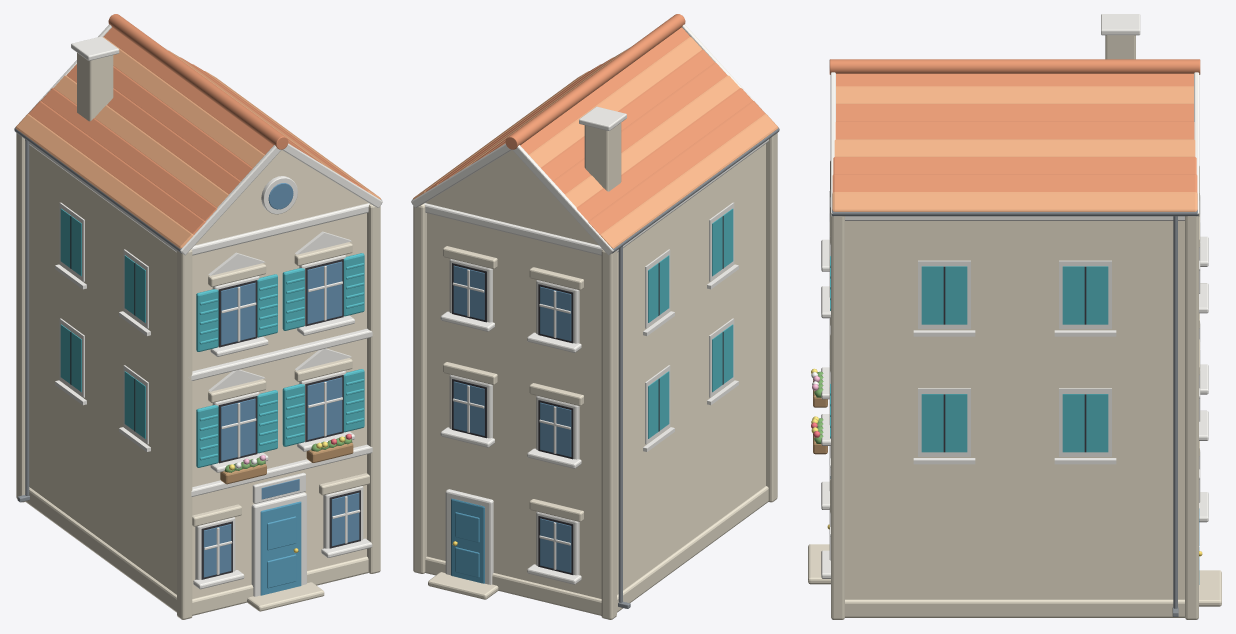
File: terrace_g.fbx
3 views of the same model, side by side, from view 1: azimuth 30°, elevation 25°; view 2: azimuth 150°, elevation 25°; view 3: azimuth 270°, elevation 25° (orthographic). The views are drawn at different scales.
Parts seen in each view (by area): view 1: Visual; view 2: Visual; view 3: Visual.
Part boxes in pixels (bbox=[...]): Visual: bbox=[14, 14, 382, 619]; Visual: bbox=[411, 14, 779, 619]; Visual: bbox=[808, 14, 1221, 619].
Size of what is drawn, in the model's own units: 618 by 1297 by 940.
